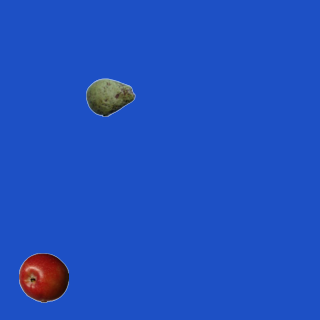Apple Braeburn: (18, 252, 68, 302)
Pear Stone: (85, 72, 135, 122)
